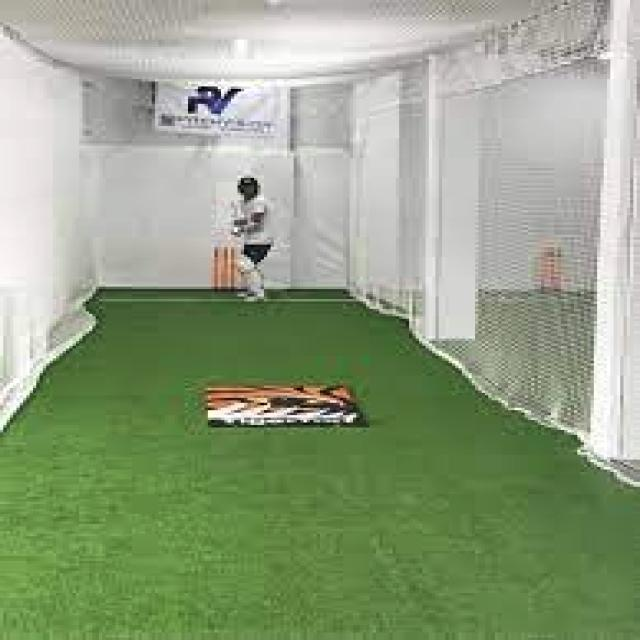bat: (213, 182, 240, 248)
